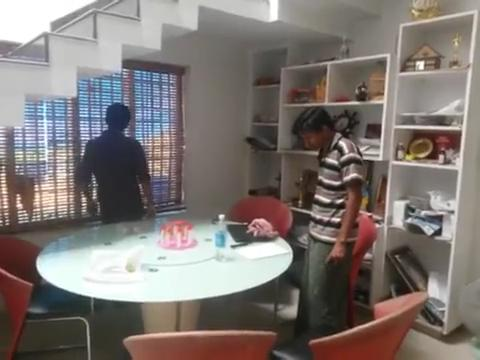chair: (273, 213, 376, 326), (1, 236, 94, 359), (271, 291, 427, 360), (228, 195, 294, 321), (122, 329, 278, 359)
closet_cabinet: (248, 8, 479, 334)
cup_glass_bottle: (156, 219, 197, 250)
floor: (1, 273, 480, 359), (1, 1, 198, 126)
paper_notebook: (226, 224, 289, 259)
person: (290, 106, 365, 337), (73, 102, 155, 224)
table_desk: (35, 214, 293, 333)
towel_s: (245, 217, 279, 238)
window: (1, 67, 182, 227)
